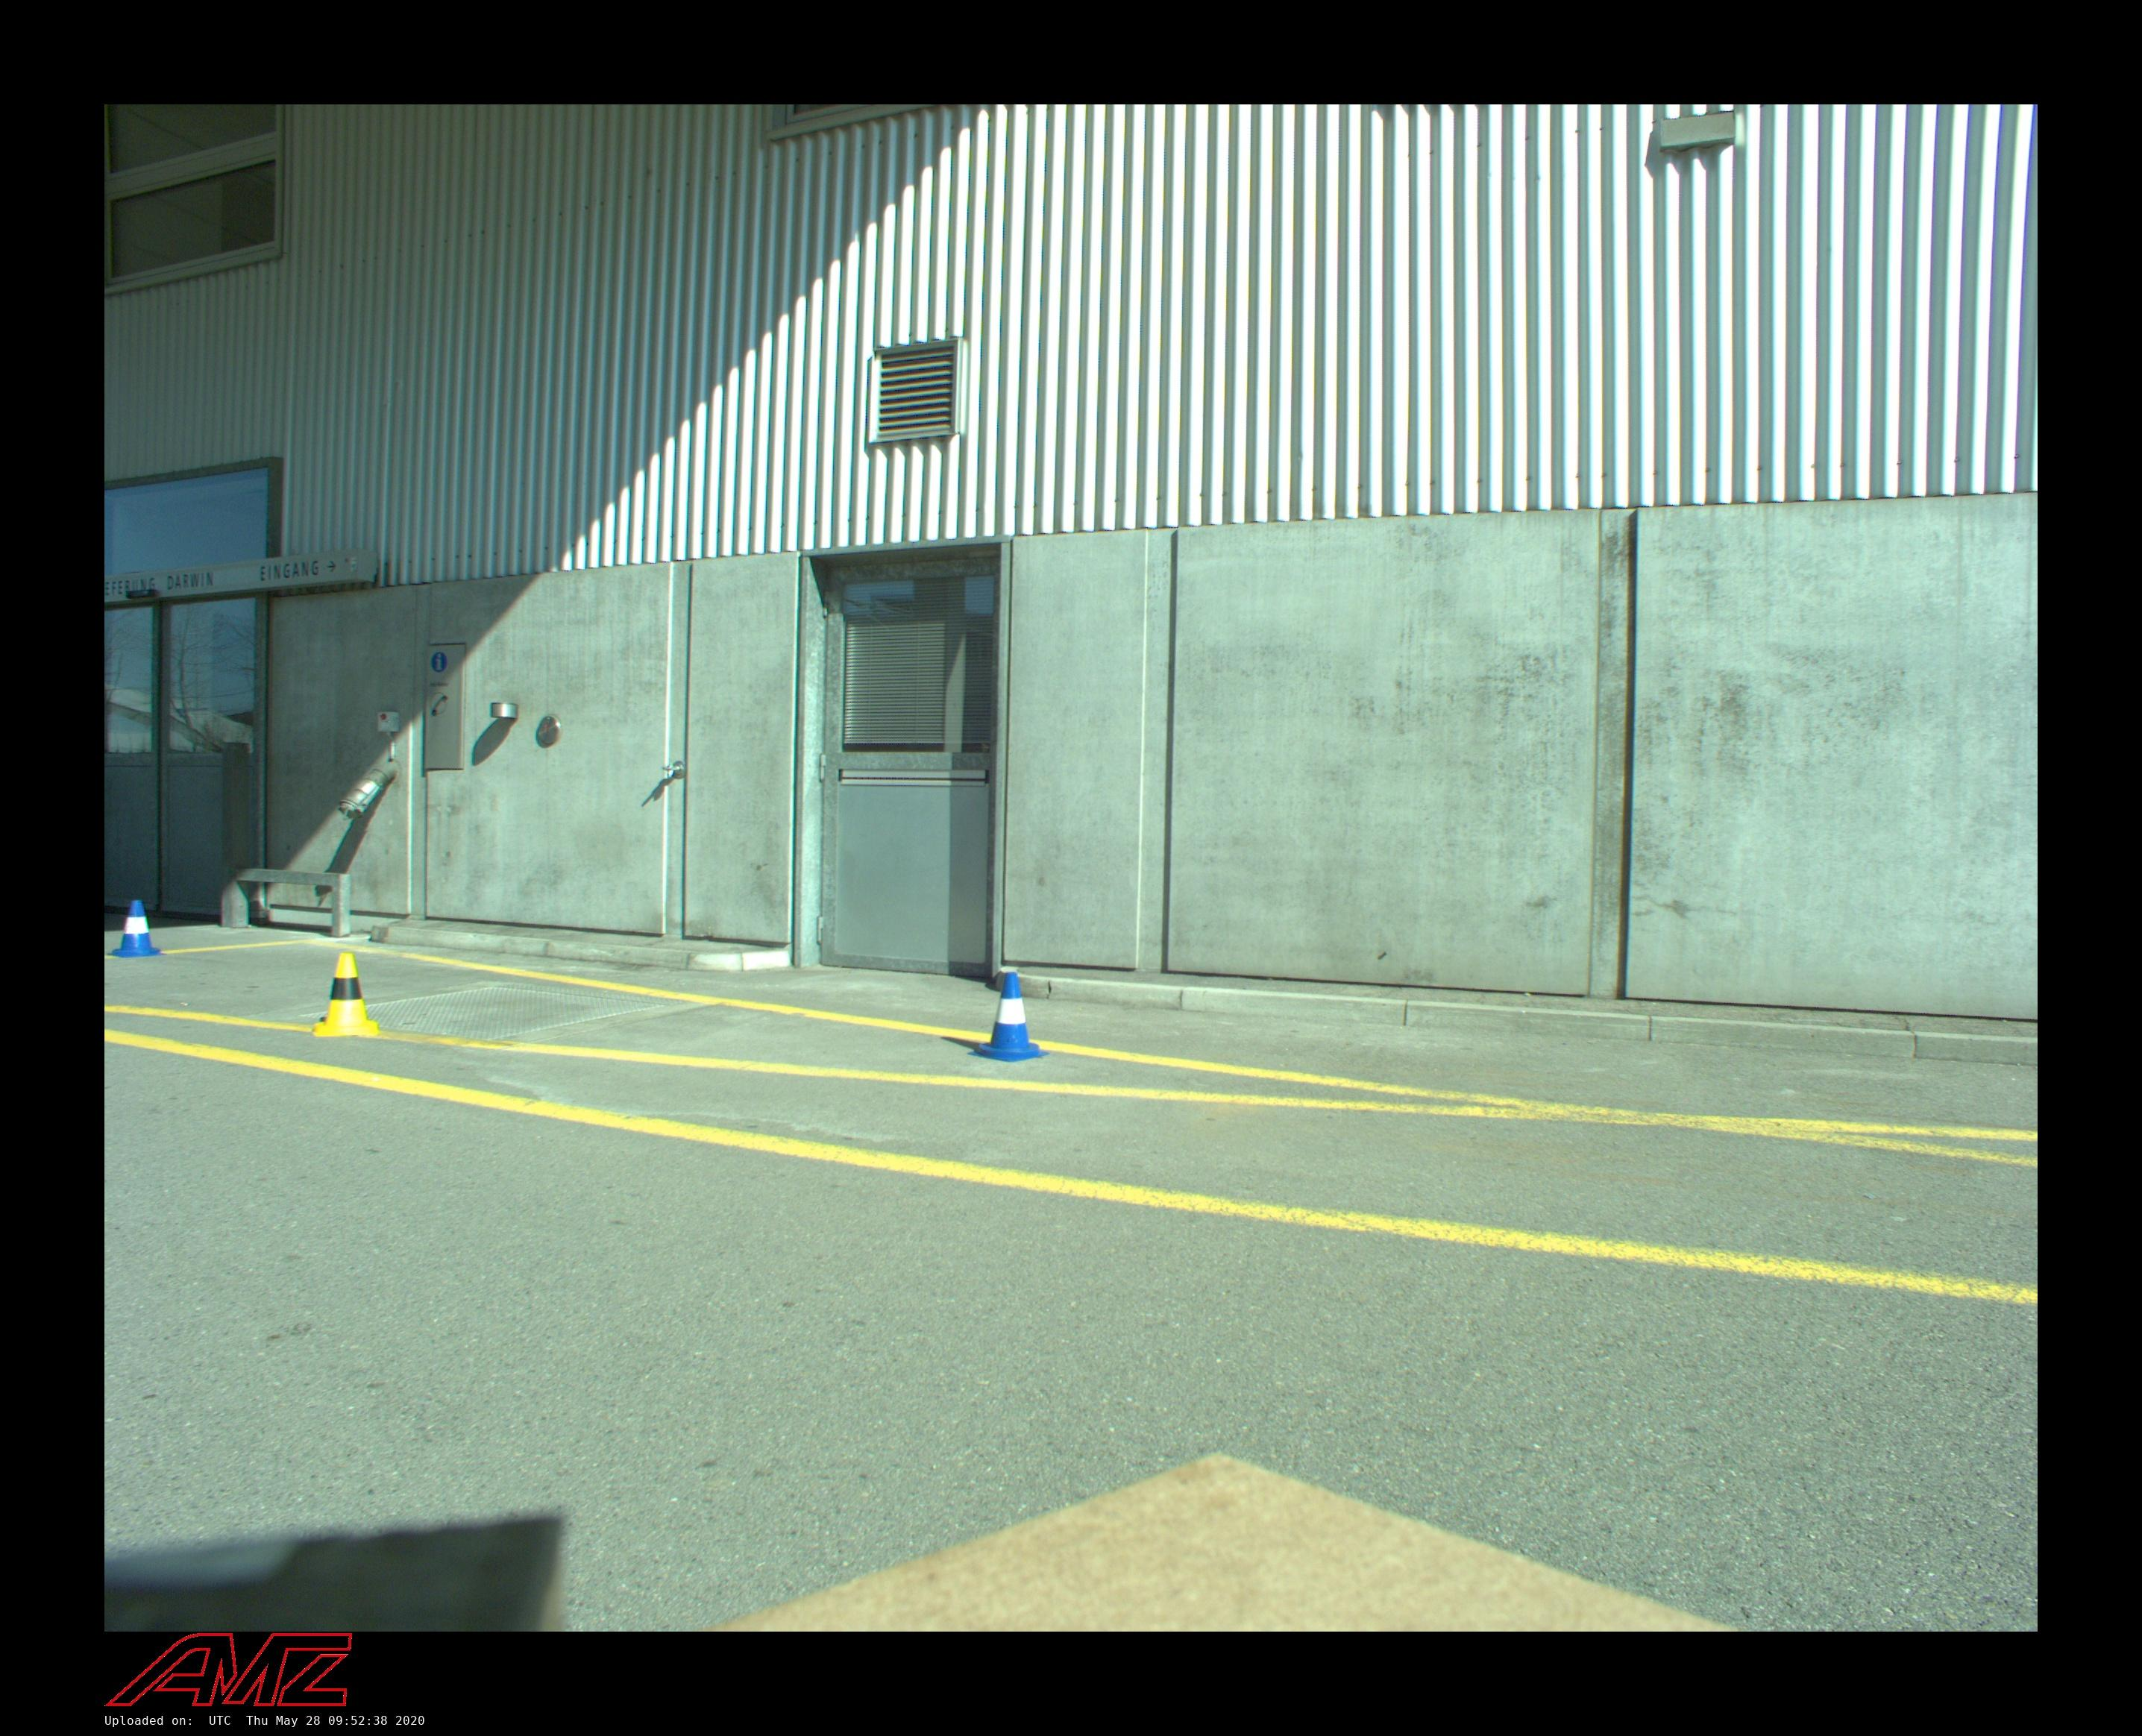blue_cone: (967, 973, 1051, 1063), (106, 900, 167, 958)
yellow_cone: (310, 953, 379, 1036)
